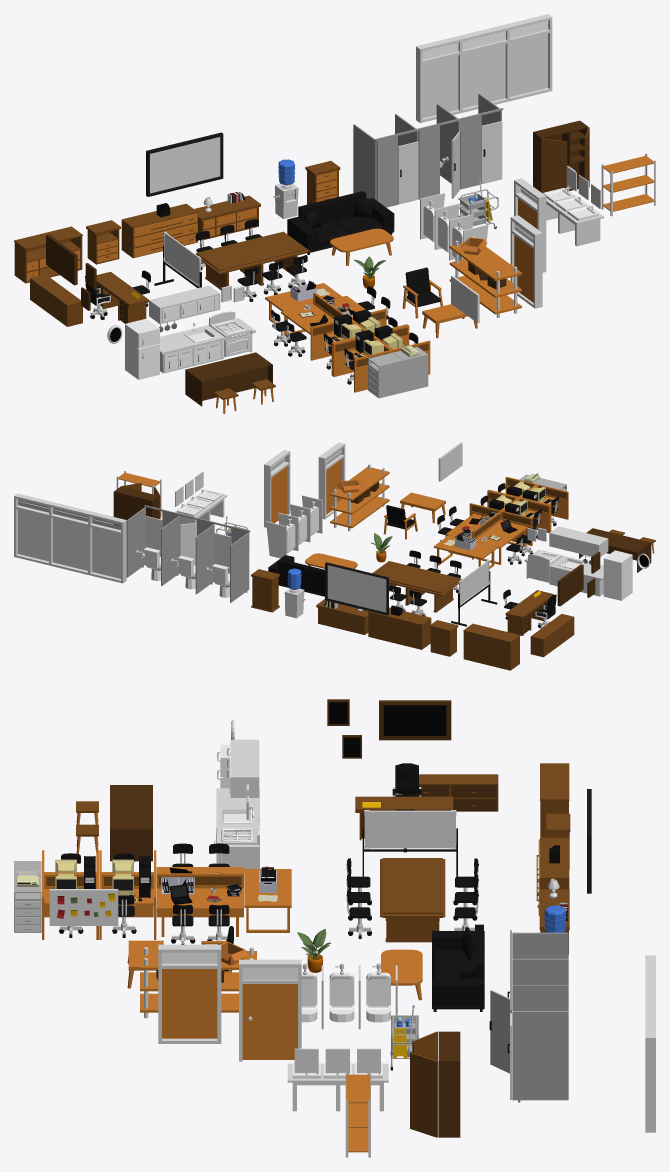
The model's file is Set Office.fbx.
3 renders of one model, top to bottom at view 1: azimuth 30°, elevation 25°; view 2: azimuth 150°, elevation 25°; view 3: azimuth 270°, elevation 25°, orthographic. The views are drawn at different scales.
Parts seen in each view (by area): view 1: Plane.047, kaca, Plane.038, board tabel, jendela, Plane.041, Plane.005, Plane.015, Plane.007, Cube, Plane.051, Plane.045 (+30 smaller); view 2: Plane.047, kaca, jendela, board tabel, Plane.015, Plane.046, jendela.007, Plane.007, Plane.005, Cube, kaca.002, Plane.045 (+30 smaller); view 3: Plane.047, jendela.002, kaca.002, Plane.005, Plane.041, Plane.038, board tabel.001, Plane.046, Plane.045, Plane.051, Plane.002, Plane.001 (+27 smaller).
Part boxes in pixels (x1,y1,x2,y2): Plane.047: (353,93,503,207); kaca: (422,21,548,117); Plane.038: (287,191,394,254); board tabel: (146,132,223,196); jendela: (416,14,552,122); Plane.041: (533,120,589,192); Plane.005: (196,231,309,289); Plane.015: (310,308,430,392); Plane.007: (449,236,521,317); Cube: (121,203,197,258); Plane.051: (185,352,272,406); Plane.045: (542,166,603,246); Plane.047: (126,505,250,602); kaca: (18,499,120,578); jendela: (14,493,126,583); board tabel: (325,562,388,615); Plane.015: (469,476,568,545); Plane.046: (266,495,322,558); jendela.007: (463,623,520,670); Plane.007: (330,464,389,531); Plane.005: (372,561,461,612); Cube: (368,607,431,649); kaca.002: (264,450,290,527); Plane.045: (174,471,227,524); Plane.047: (489,930,568,1102); jendela.002: (158,944,221,1043); kaca.002: (239,959,301,1061); Plane.005: (380,858,445,942); Plane.041: (410,1031,460,1137); Plane.038: (432,924,484,1011); board tabel.001: (362,810,457,876); Plane.046: (301,963,397,1029); Plane.045: (287,1048,388,1111); Plane.051: (110,785,152,861); Plane.002: (379,700,451,740); Plane.001: (49,889,118,925).
Bounding box in the file's own units: 16854 × 2718 × 12075.
